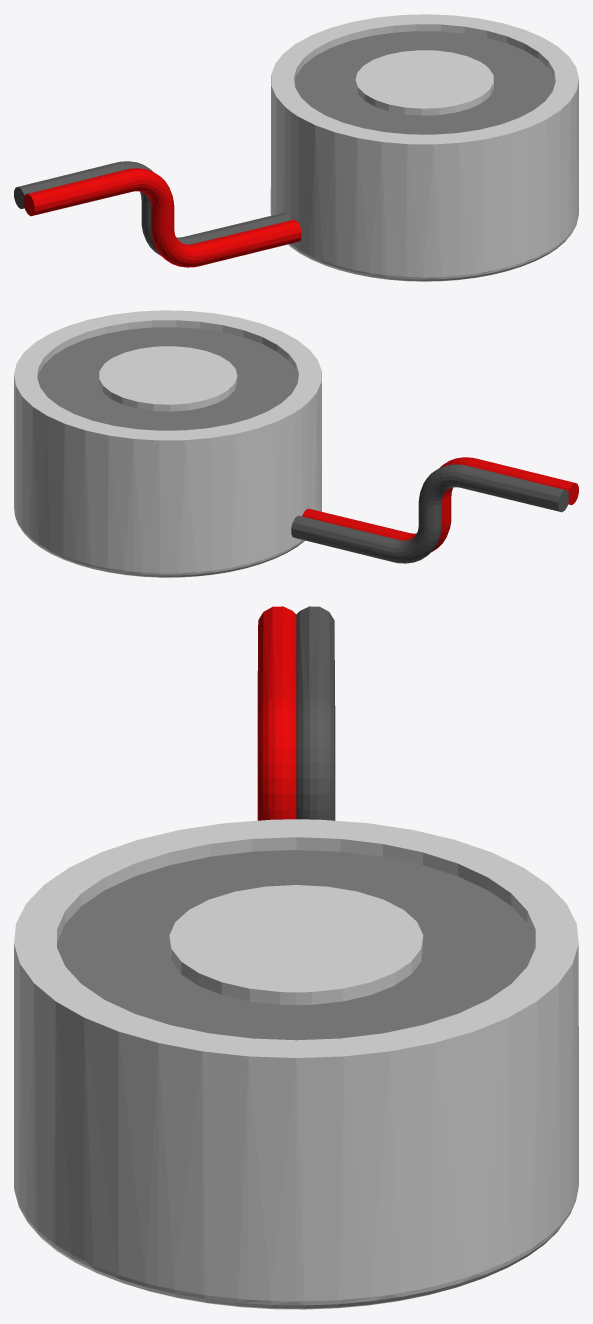
File: Electromagnet.dae
The picture shows the model from 3 angles, top to bottom: view 1: azimuth 30°, elevation 25°; view 2: azimuth 150°, elevation 25°; view 3: azimuth 270°, elevation 25°; orthographic projection. The views are drawn at different scales.
Parts seen in each view (by area): view 1: ELECTROMAGNET_25KG; view 2: ELECTROMAGNET_25KG; view 3: ELECTROMAGNET_25KG.
Part boxes in pixels (x1,y1,x2,y2): ELECTROMAGNET_25KG: [14, 14, 578, 281]; ELECTROMAGNET_25KG: [14, 310, 578, 577]; ELECTROMAGNET_25KG: [14, 606, 578, 1309].
Size of the model in its own units: 0.08 by 0.04 by 0.02.
